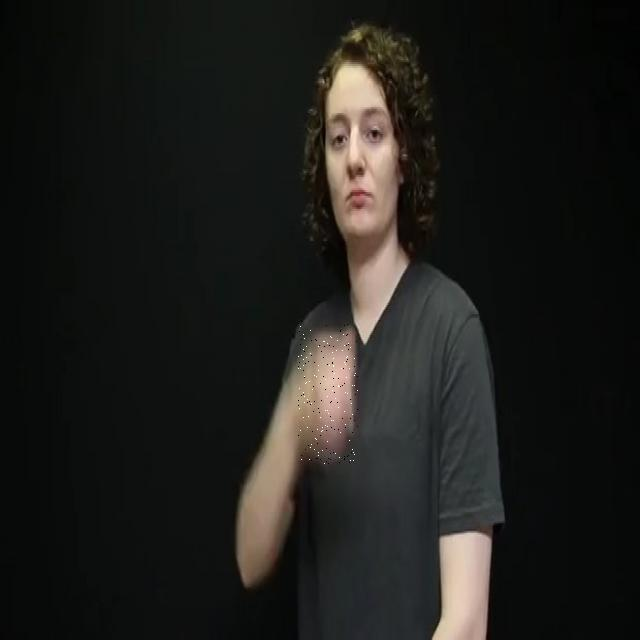drink: (298, 324, 358, 464)
